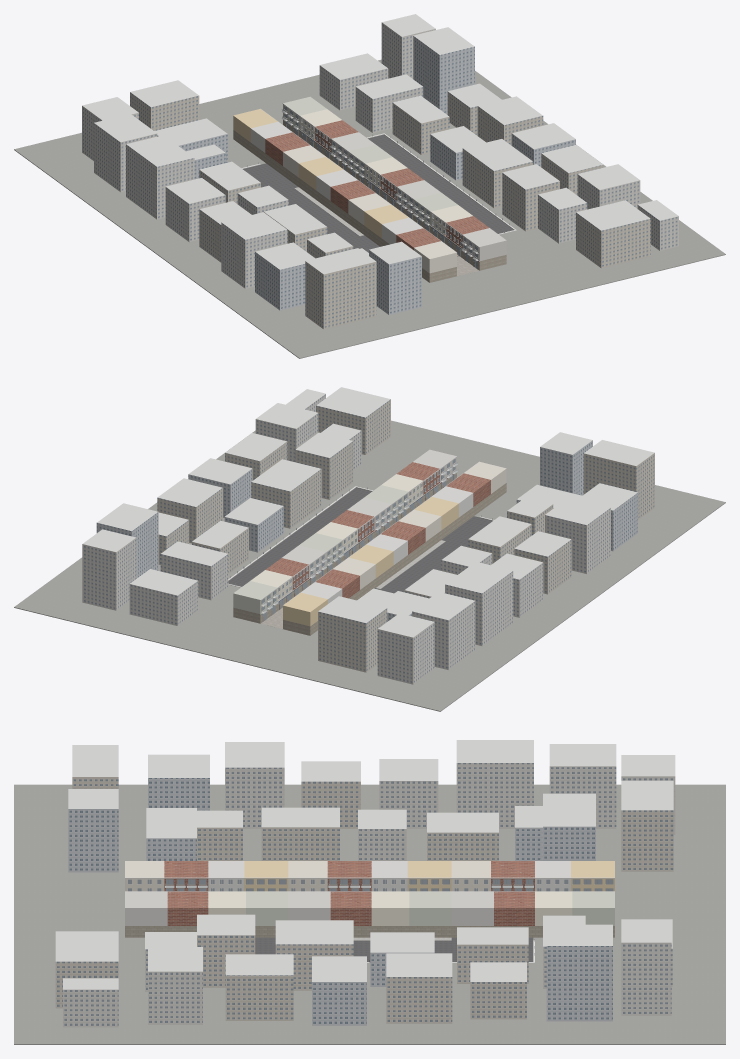
3 renders of one model, top to bottom at view 1: azimuth 30°, elevation 25°; view 2: azimuth 150°, elevation 25°; view 3: azimuth 270°, elevation 25°, orthographic. The views are drawn at different scales.
Parts seen in each view (by area): view 1: Geom3D (×84); view 2: Geom3D (×82); view 3: Geom3D (×90).
Part boxes in pixels (bbox=[...]): Geom3D (×84): bbox=[14, 14, 725, 358]; Geom3D (×82): bbox=[14, 387, 725, 711]; Geom3D (×90): bbox=[14, 740, 725, 1044].
Bounding box in the file's own units: 188 × 25.79 × 218.
44 materials, 9 textured.
